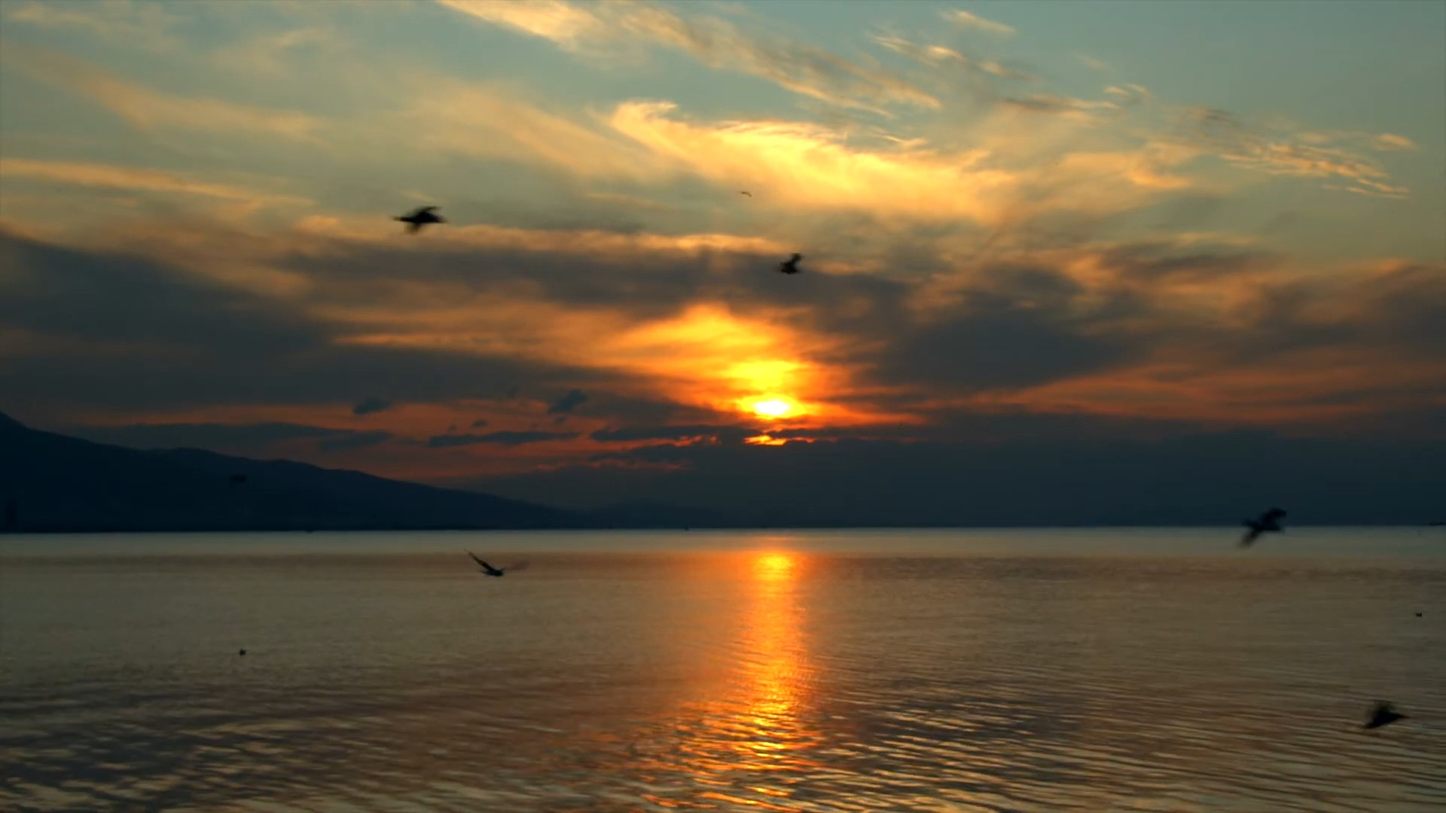not_drone: (1350, 687, 1415, 742), (1230, 501, 1287, 555), (384, 190, 448, 235), (462, 542, 525, 582), (776, 243, 807, 275)
